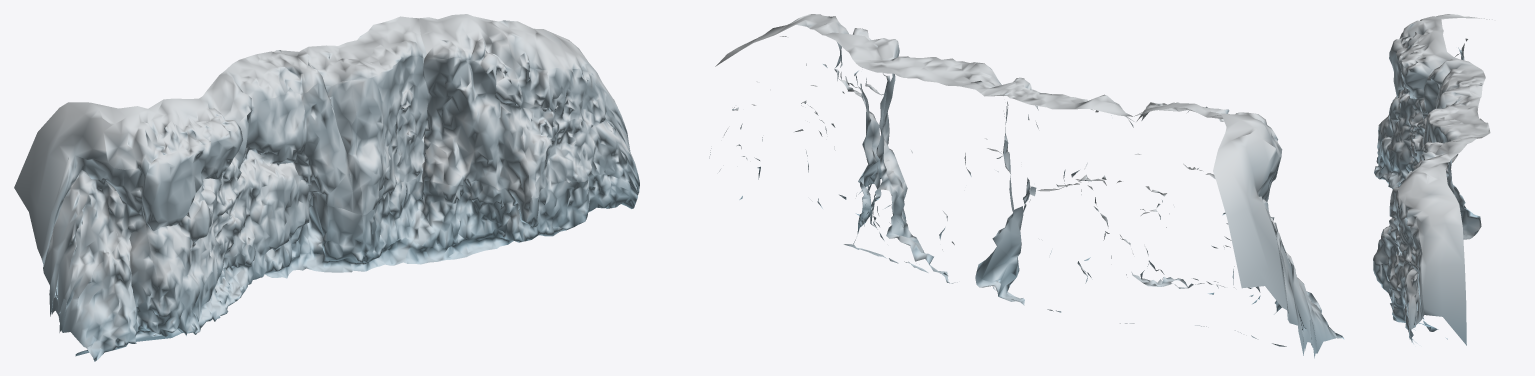
File: sculpted-iceberg-mobile.glb
3 views of the same model, side by side, from view 1: azimuth 30°, elevation 25°; view 2: azimuth 150°, elevation 25°; view 3: azimuth 270°, elevation 25° (orthographic). The views are drawn at different scales.
Size of the model in its own units: 25.99 by 9.61 by 7.76.
